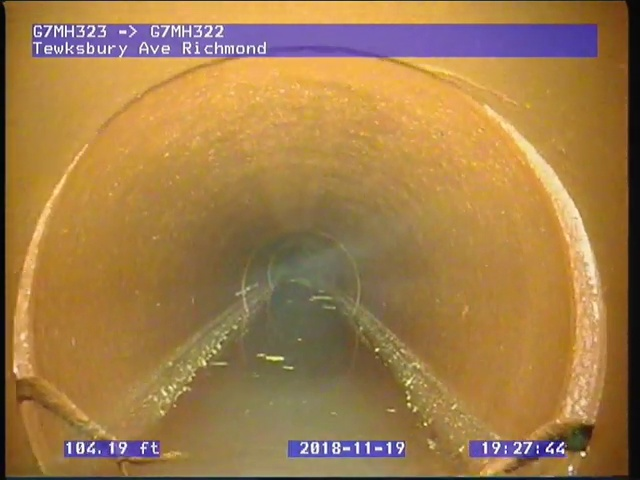crack: (13, 372, 186, 477), (478, 417, 600, 477)
